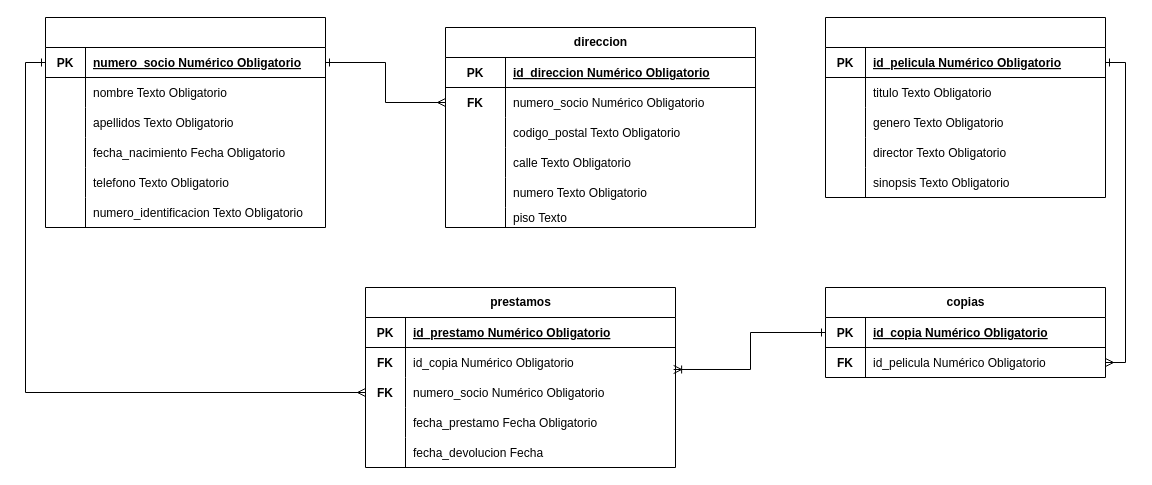
Image size: 1152x485. Some labels were removed from this diagram. Each missing label, with the box of its shape:
peliculas: (824, 16, 1106, 198)
socios: (44, 16, 326, 228)
